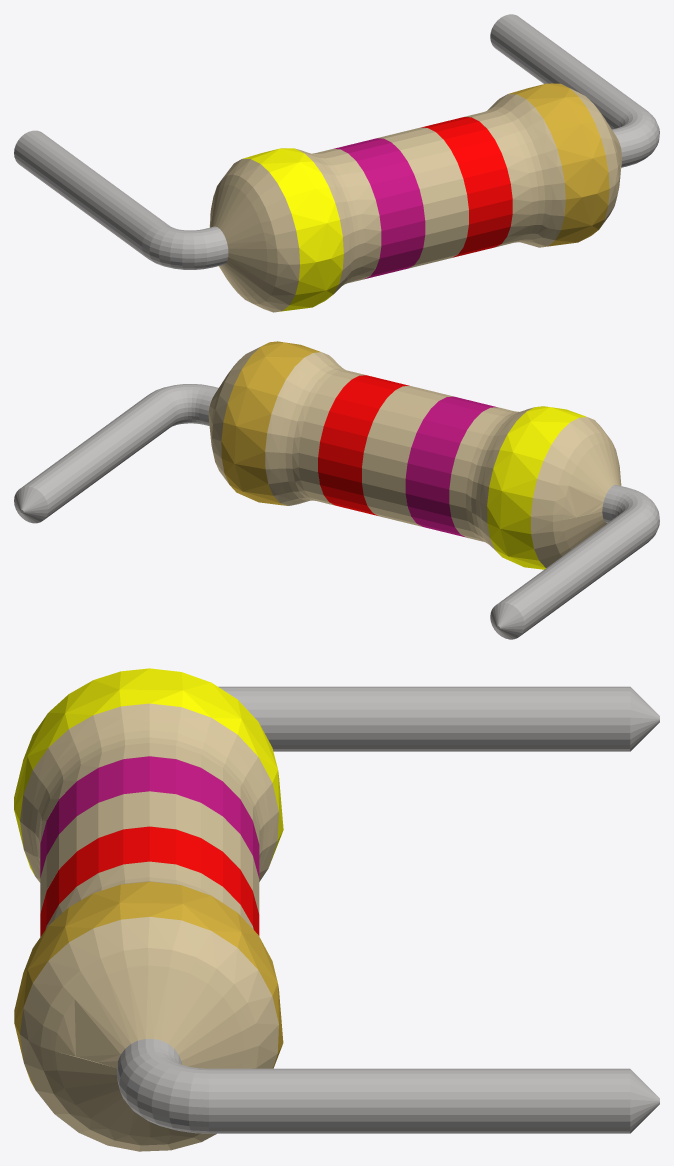
Rendered from Yageo CFR-25 Resistor Axial P7.62mm 4,7 kOhm.obj.
3 views of the same model, one above another, from view 1: azimuth 30°, elevation 25°; view 2: azimuth 150°, elevation 25°; view 3: azimuth 270°, elevation 25° (orthographic). The views are drawn at different scales.
Visible parts, largest first — view 1: Yageo_CFR-25_Resistor_Axial_P7.62mm_4,7_kOhm; view 2: Yageo_CFR-25_Resistor_Axial_P7.62mm_4,7_kOhm; view 3: Yageo_CFR-25_Resistor_Axial_P7.62mm_4,7_kOhm.
Boxes of the visible parts, x1,y1,x2,y2 form: Yageo_CFR-25_Resistor_Axial_P7.62mm_4,7_kOhm: (14, 14, 659, 312); Yageo_CFR-25_Resistor_Axial_P7.62mm_4,7_kOhm: (14, 341, 659, 639); Yageo_CFR-25_Resistor_Axial_P7.62mm_4,7_kOhm: (14, 668, 659, 1151).
Size of the model in its own units: 0.0122 by 0.00336 by 0.00812.
